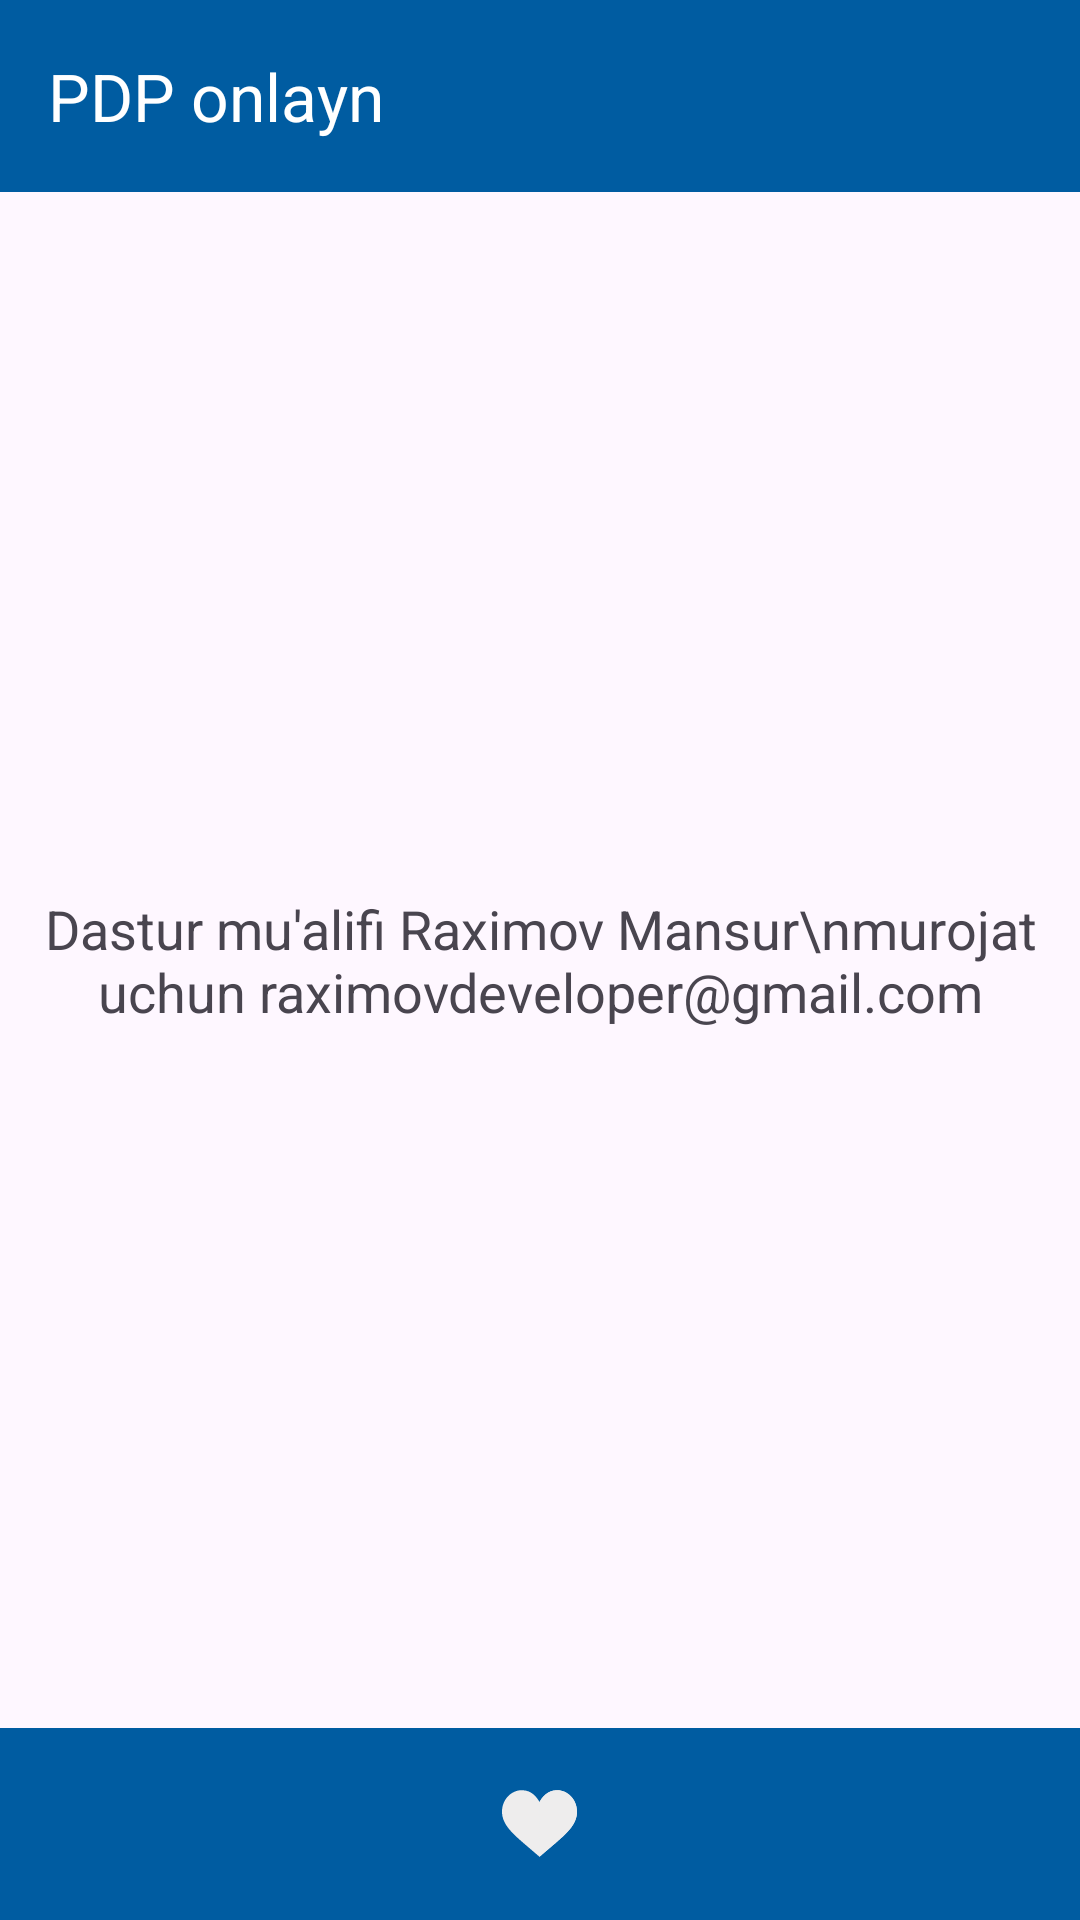

Named icons in this screenshot (1080x1920) and their centers, [x,y]:
heart: [539,1823]
